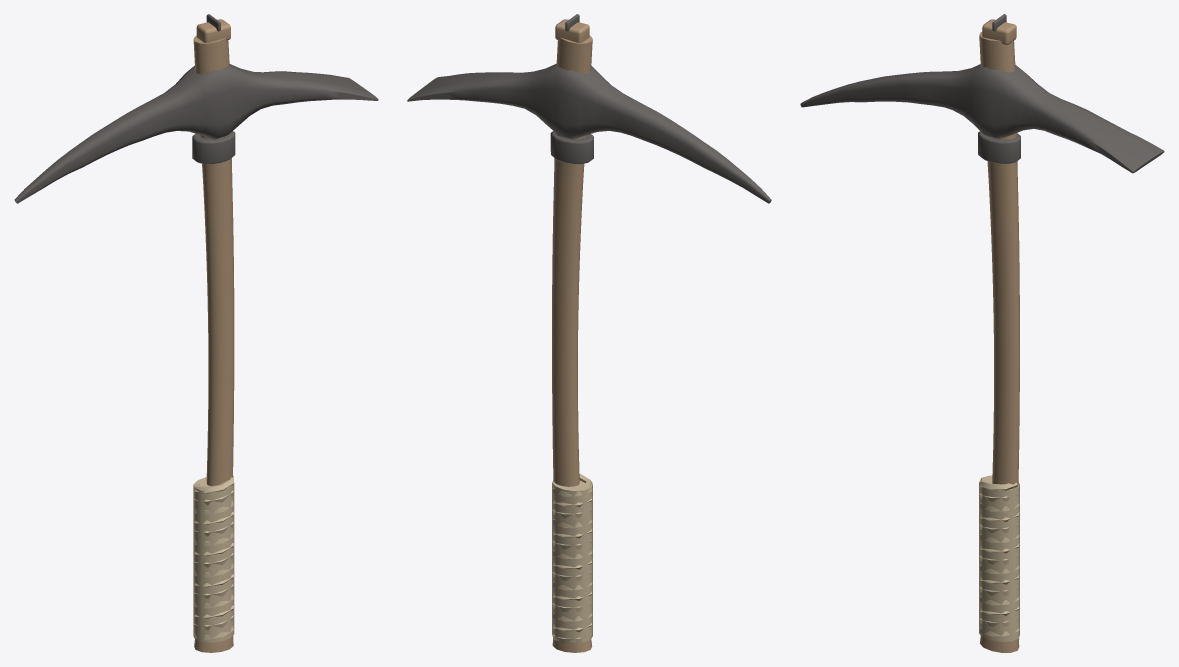
Rendered from Tool_salvage_tool.glb.
3 renders of one model, left to right at view 1: azimuth 30°, elevation 25°; view 2: azimuth 150°, elevation 25°; view 3: azimuth 330°, elevation 25°, orthographic.
Visible parts, largest first — view 1: Pickaxe; view 2: Pickaxe; view 3: Pickaxe.
Boxes of the visible parts, bbox=[...] form: Pickaxe: bbox=[14, 14, 378, 652]; Pickaxe: bbox=[407, 14, 771, 652]; Pickaxe: bbox=[800, 14, 1164, 652].
Bounding box in the file's own units: 0.6094 × 1.05 × 0.0926.
